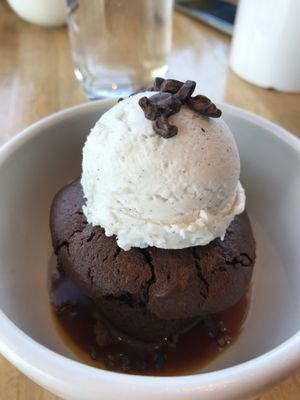pizza: (65, 0, 176, 100), (228, 0, 300, 94)
soup: (49, 79, 257, 349)
